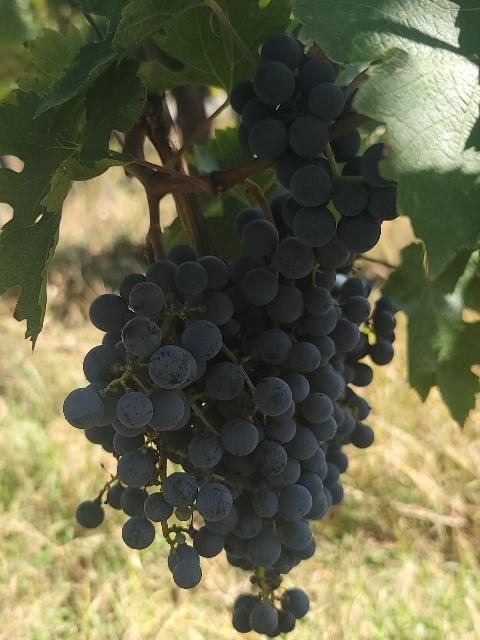grapes: (64, 260, 281, 589), (210, 219, 395, 604), (230, 32, 398, 255)
